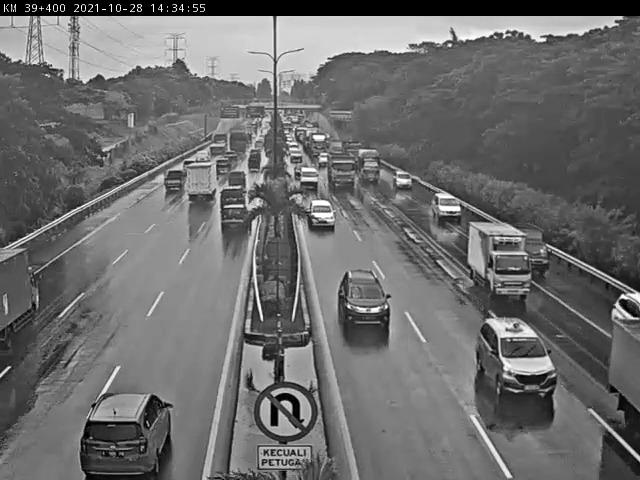big truck: (325, 152, 363, 197)
car: (79, 391, 186, 479), (479, 309, 558, 401), (331, 258, 398, 340), (517, 219, 554, 276), (430, 187, 466, 229), (601, 283, 640, 319), (305, 195, 337, 230), (218, 210, 250, 238), (219, 190, 250, 215), (162, 171, 183, 203), (393, 168, 414, 196), (299, 167, 320, 187), (228, 172, 249, 188)
small truck: (591, 304, 640, 429), (0, 244, 50, 363), (471, 221, 527, 298), (182, 164, 219, 216), (355, 147, 385, 188)
